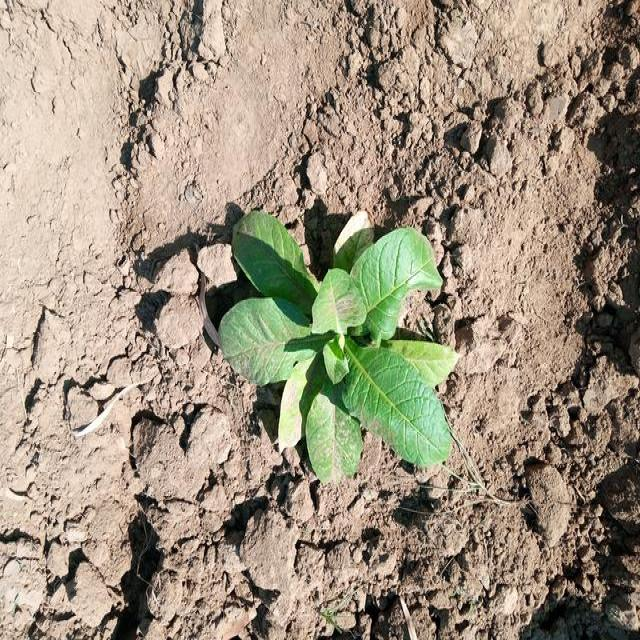crop: (219, 207, 464, 497)
